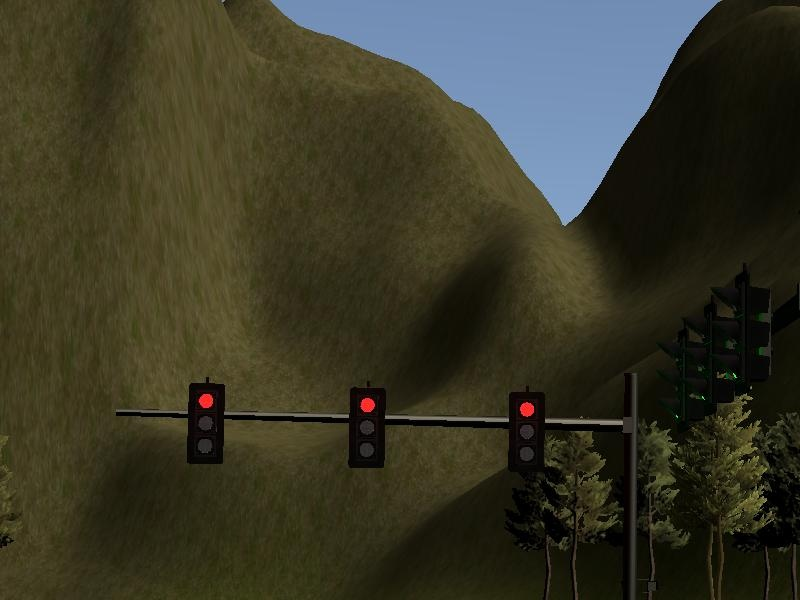red: (184, 376, 230, 470), (346, 384, 390, 473), (506, 390, 548, 476)
